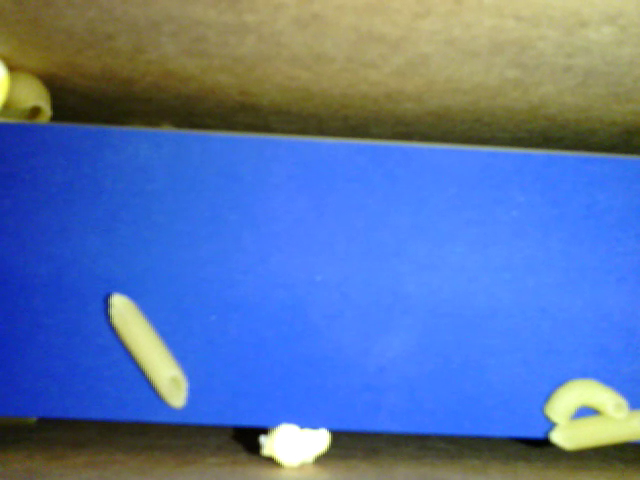elbow: (538, 378, 631, 425)
penne: (109, 288, 192, 410), (548, 409, 638, 455)
shell: (4, 70, 53, 125)
